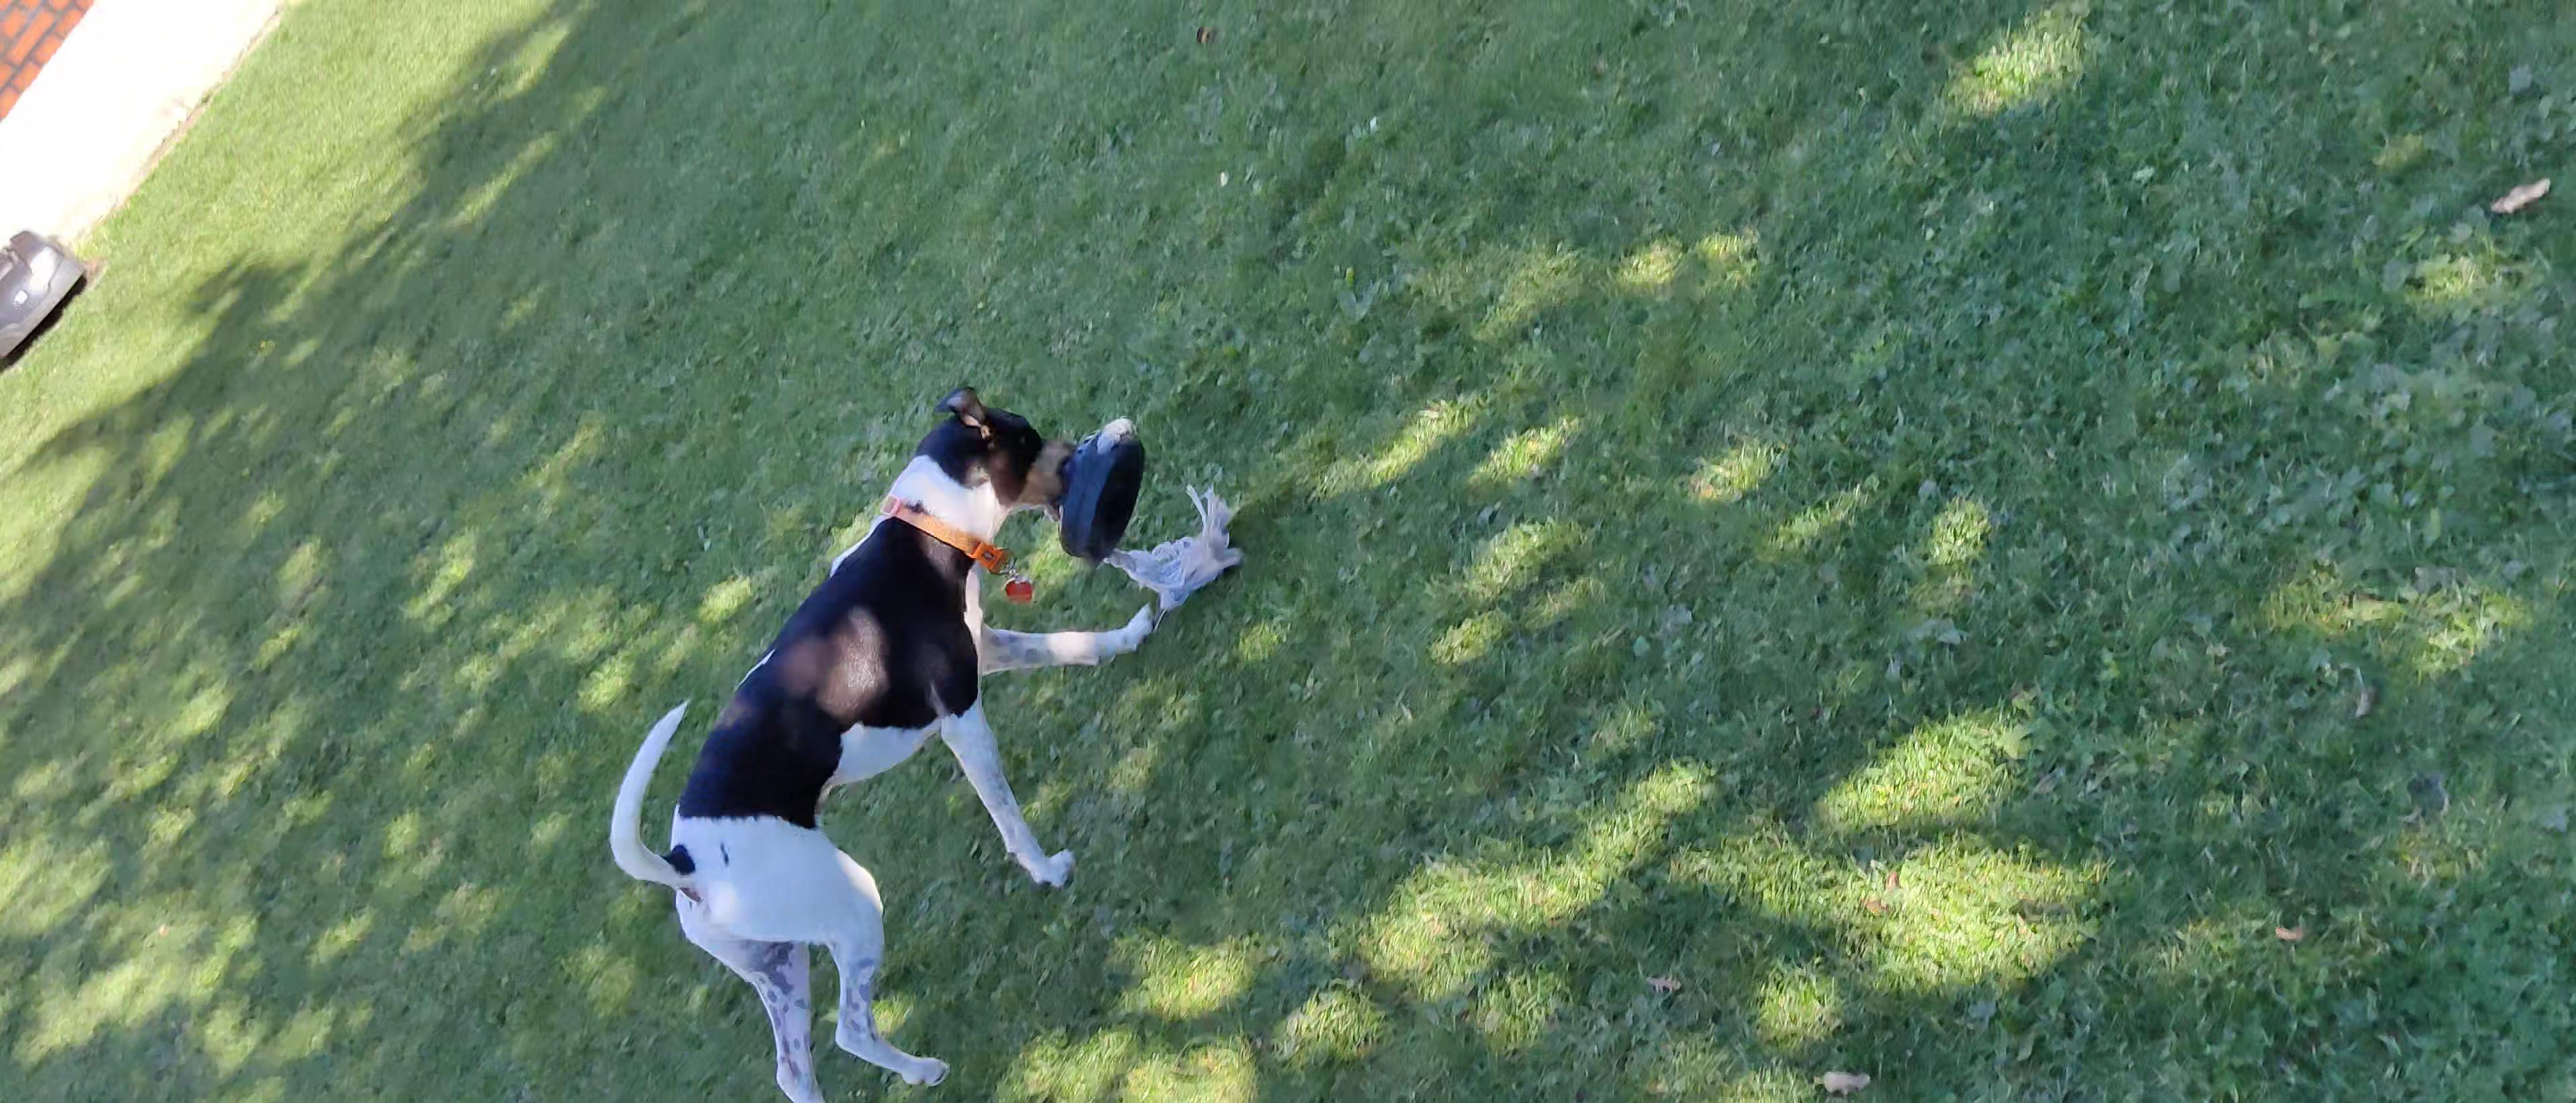Dog: (601, 375, 1163, 1103)
